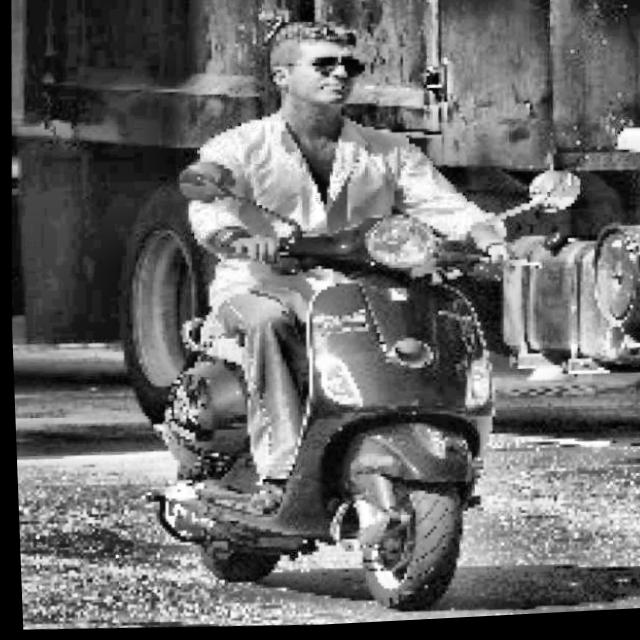motorcycle: (80, 128, 608, 629)
